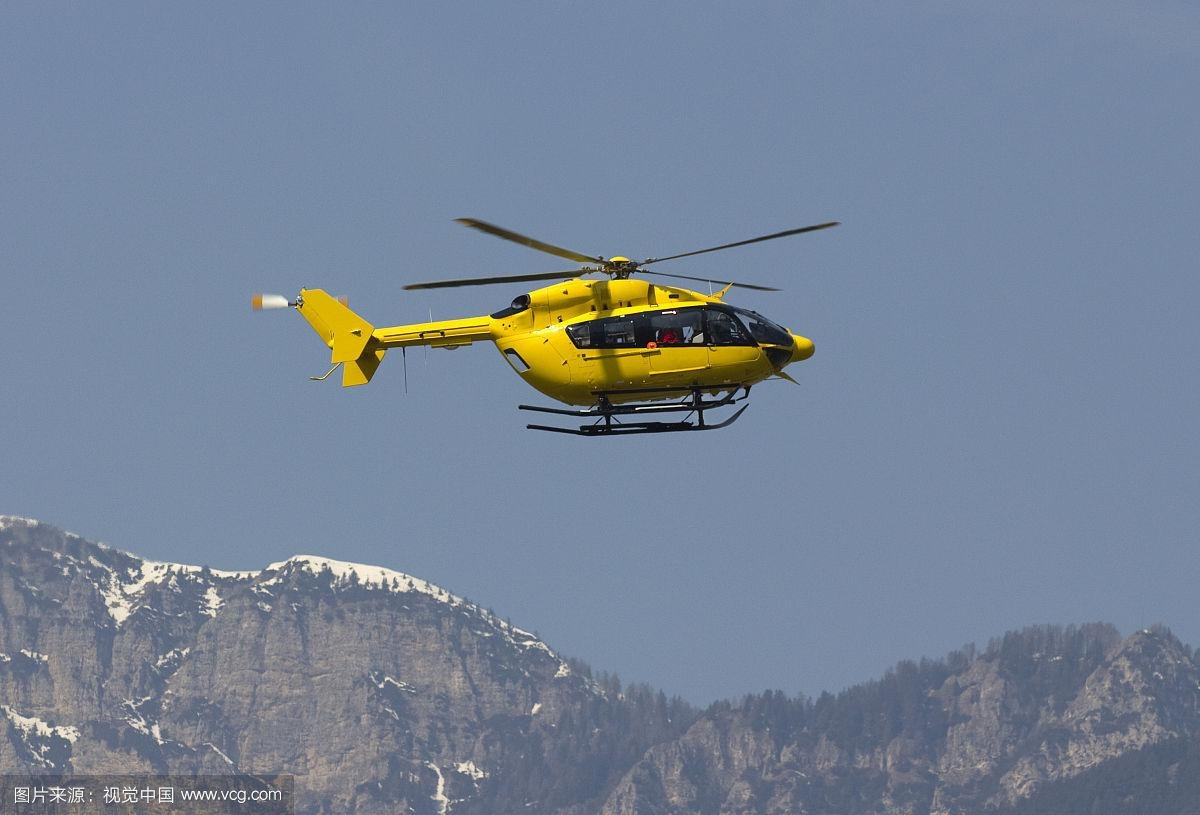airplane: (256, 201, 865, 437)
